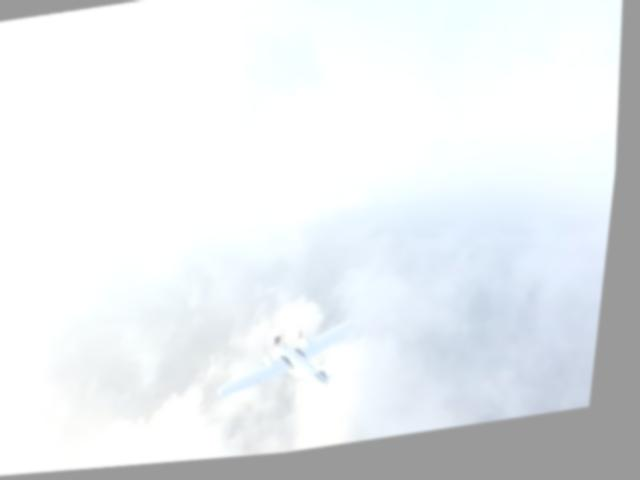uav: (220, 320, 375, 406)
